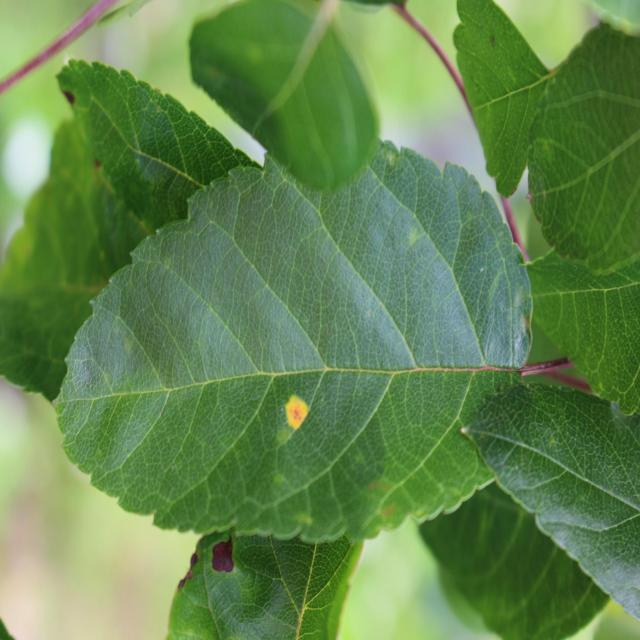Black Rot: (198, 522, 243, 585)
Rust: (282, 386, 317, 445)
